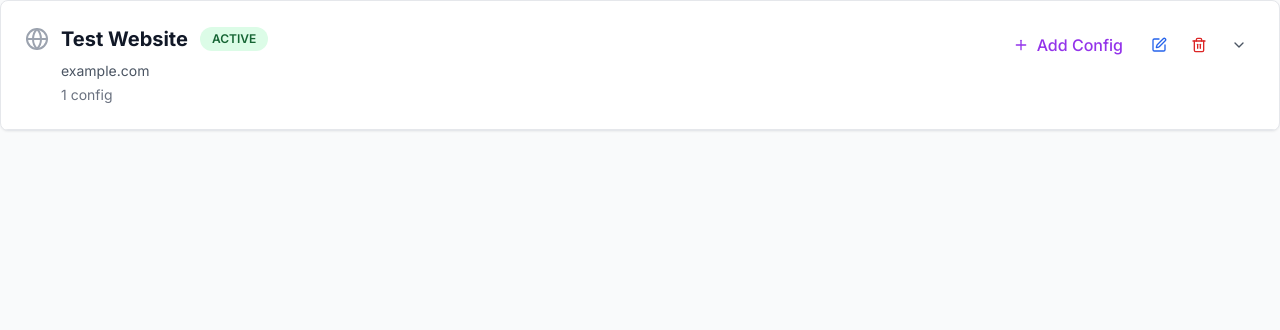
Test: WebsiteCard › Expand/collapse functionality › should expand and show configs when expand button is clicked
Click the button titled "Expand": (1239, 45) [1223,29,1255,61]
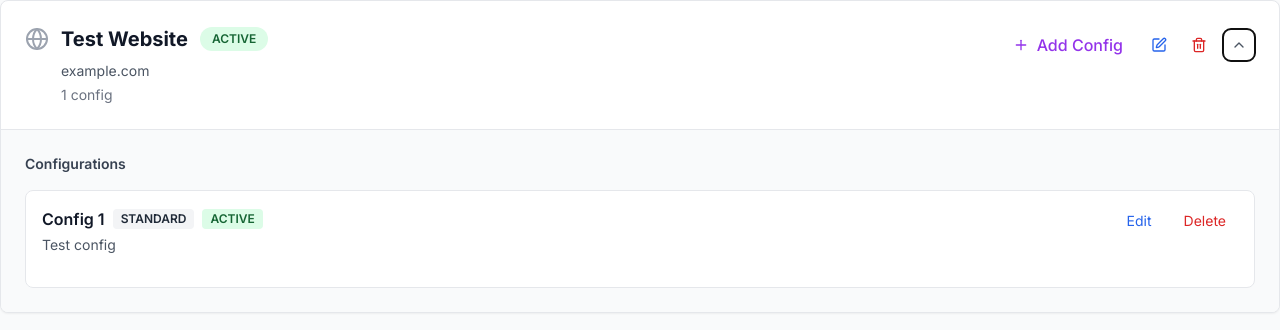
Result: the heading "Configurations" is shown at [25,155,126,172]
Result: the heading "Config 1" is shown at [42,207,105,231]
